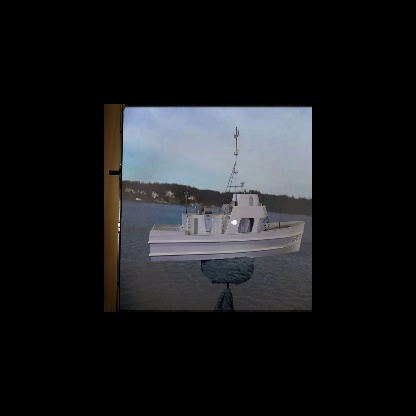YP689: (149, 125, 305, 262)
